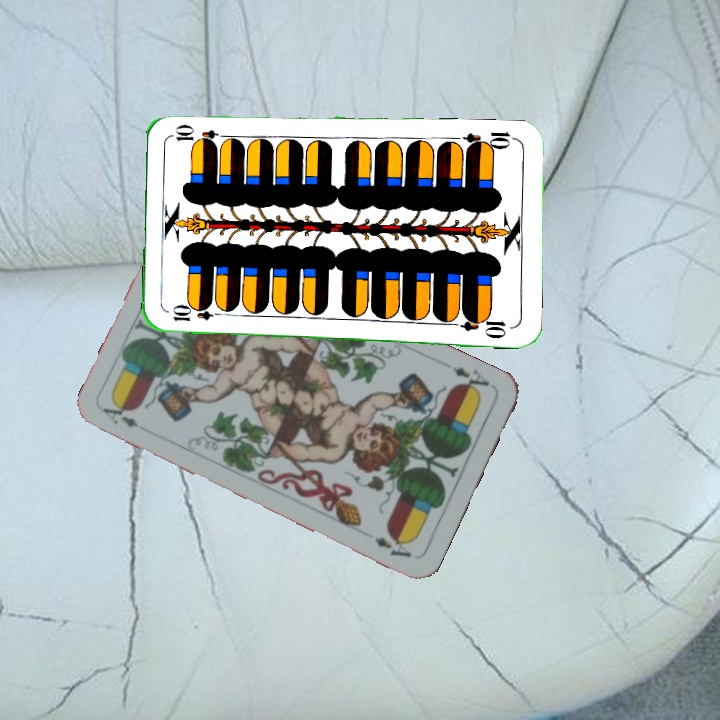E10: (461, 127, 520, 153), (168, 304, 225, 324)
EA: (448, 362, 492, 397), (98, 401, 141, 431)
